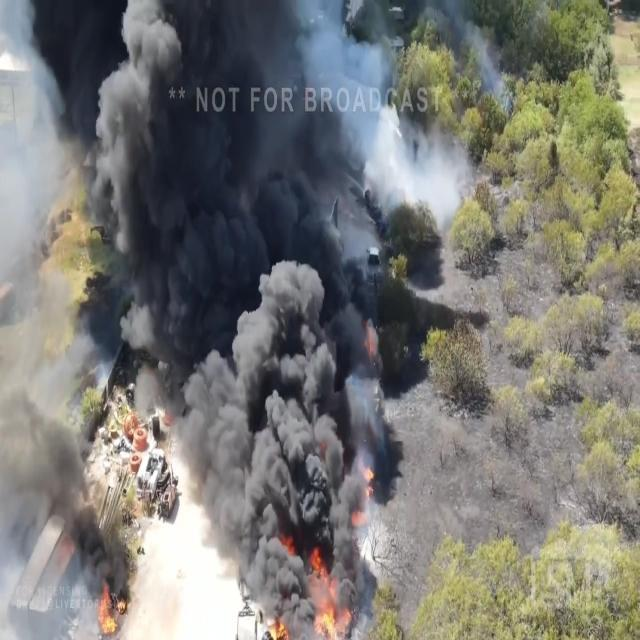Smoke: (87, 11, 356, 536)
